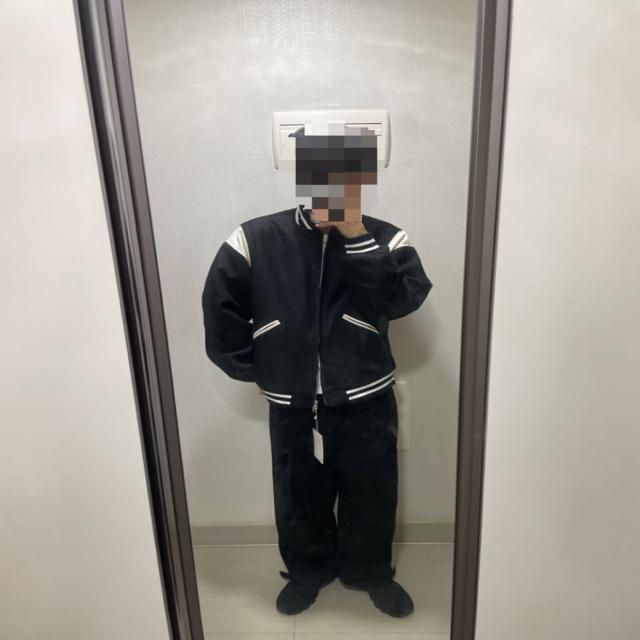cottonpants: (274, 387, 404, 592)
jacket: (203, 207, 435, 400)
